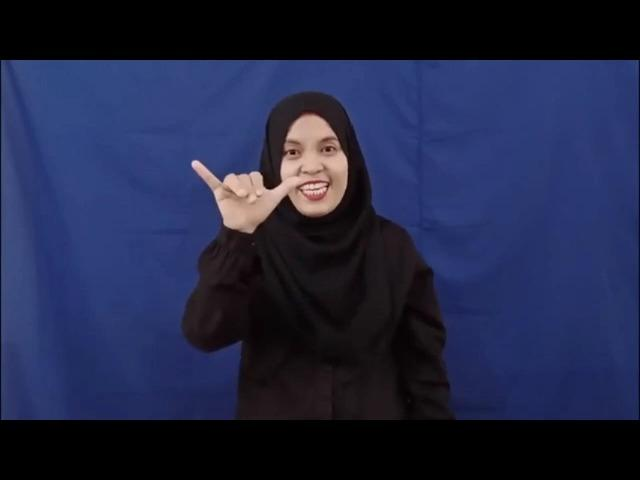Y: (188, 157, 304, 235)
